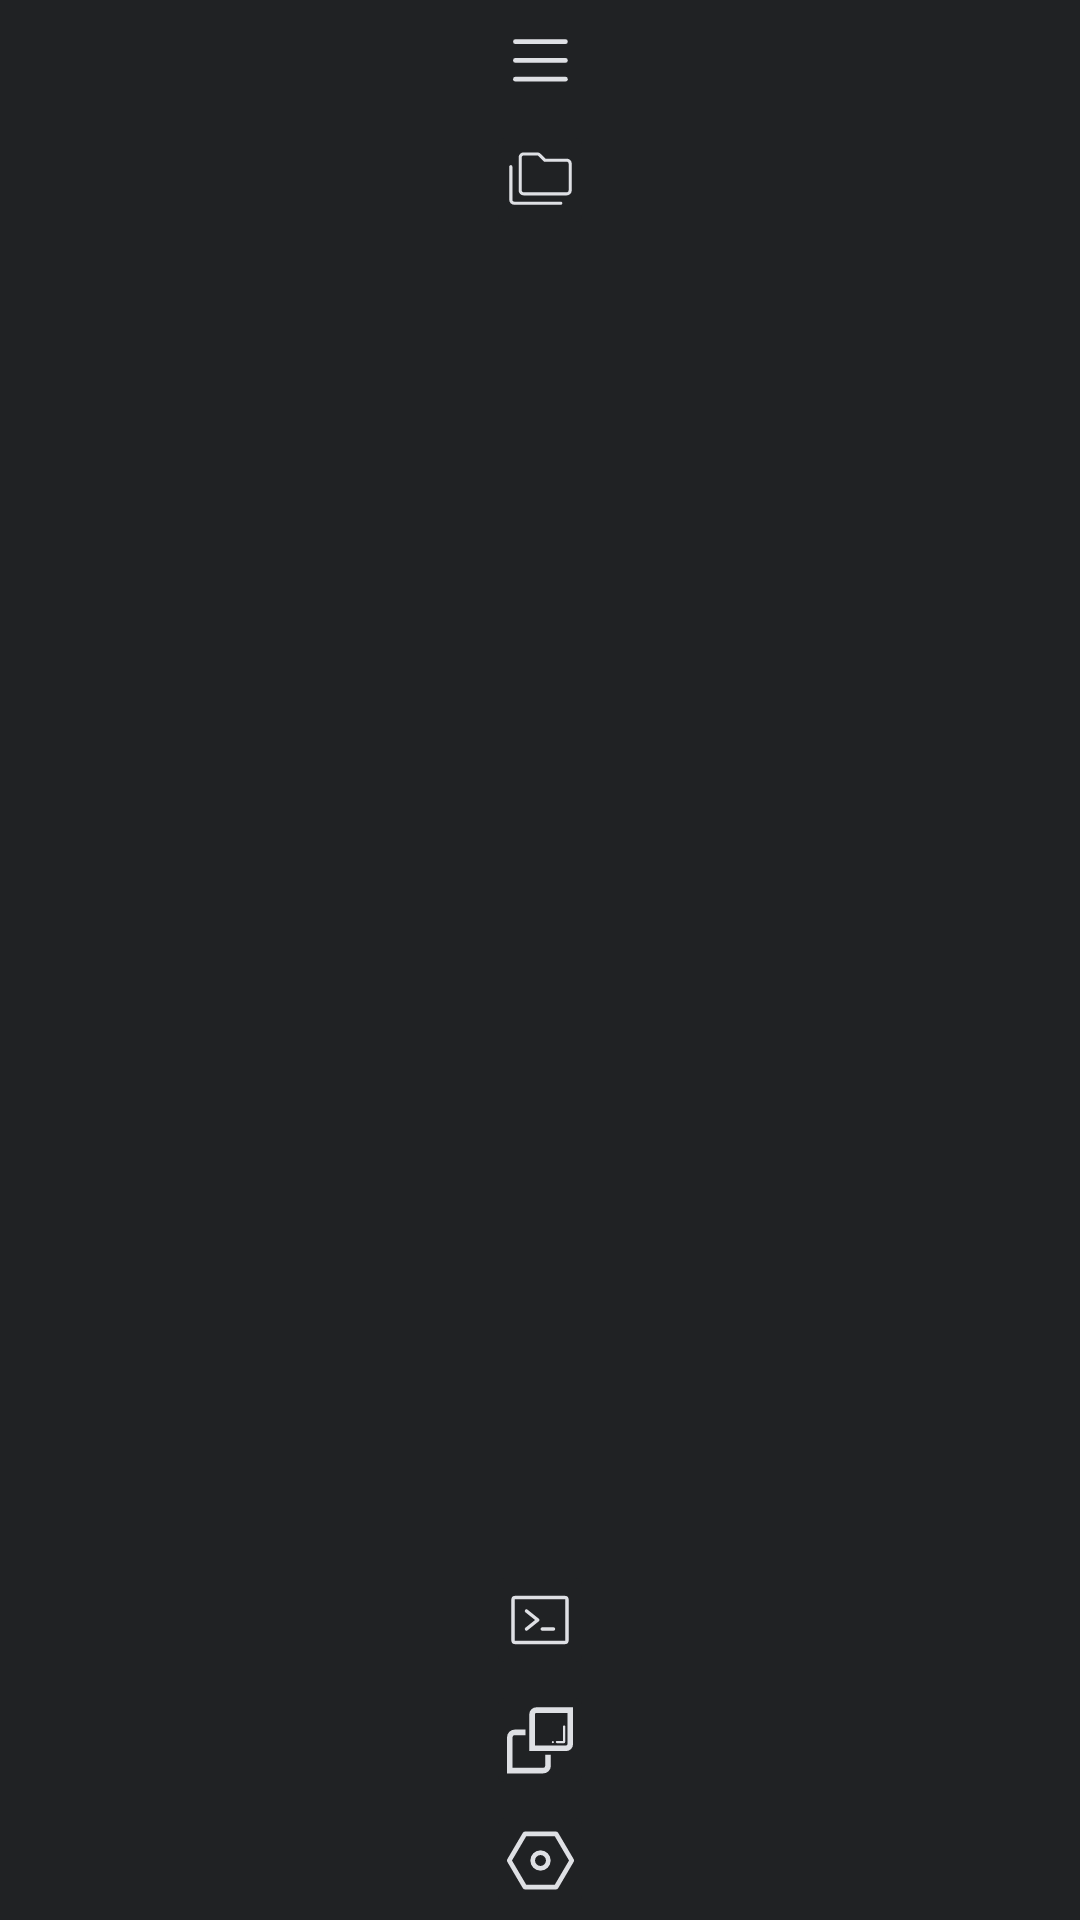

Named icons in this screenshot (1080×1920) and their centers, (x,y):
left folder: (540,178)
left menu: (540,60)
left setting: (540,1860)
left terminal: (540,1620)
left window: (540,1740)
